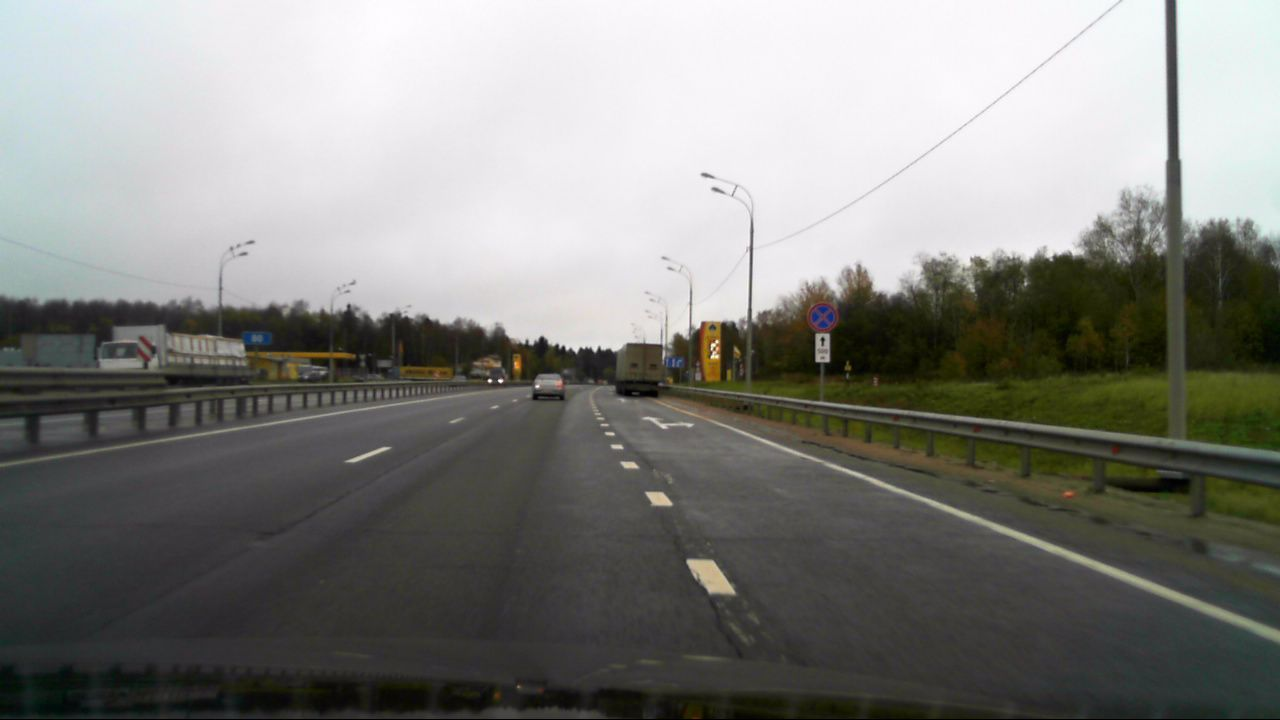No Parking: (808, 301, 838, 330)
